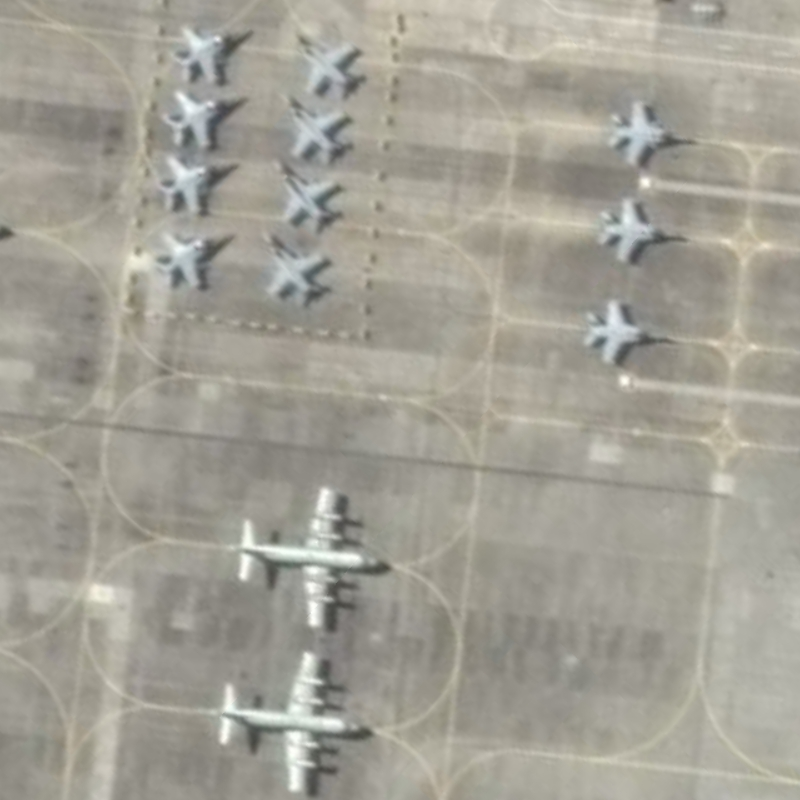A16: (588, 191, 693, 269), (601, 90, 701, 169), (580, 292, 676, 370), (168, 15, 257, 88), (259, 228, 338, 310), (149, 150, 243, 216), (149, 224, 235, 296), (273, 157, 347, 236), (283, 93, 359, 169), (290, 26, 367, 99), (160, 87, 249, 150)
A9: (225, 478, 393, 639), (199, 644, 372, 795)
